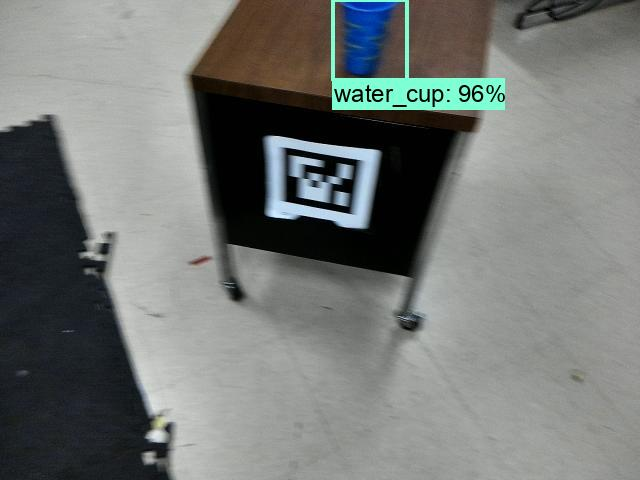water_cup: (341, 1, 397, 80)
